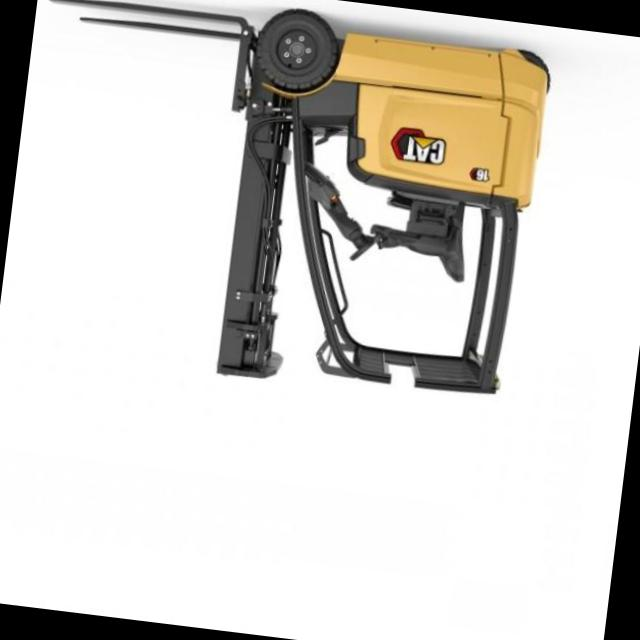forklift: (180, 0, 571, 419)
